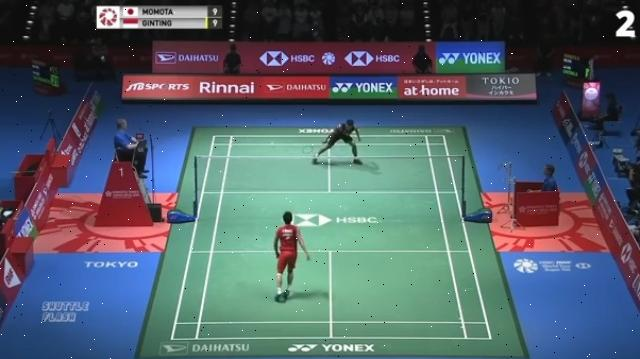Shuttlecock: (268, 141, 278, 149)
